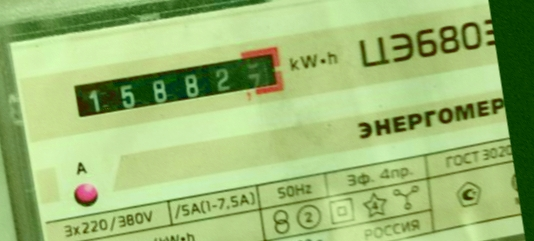1: (85, 83, 103, 113)
2: (211, 64, 232, 92)
5: (116, 79, 138, 111)
7: (245, 68, 260, 87)
8: (148, 75, 168, 105), (180, 69, 200, 99)
screen: (59, 35, 291, 130)
